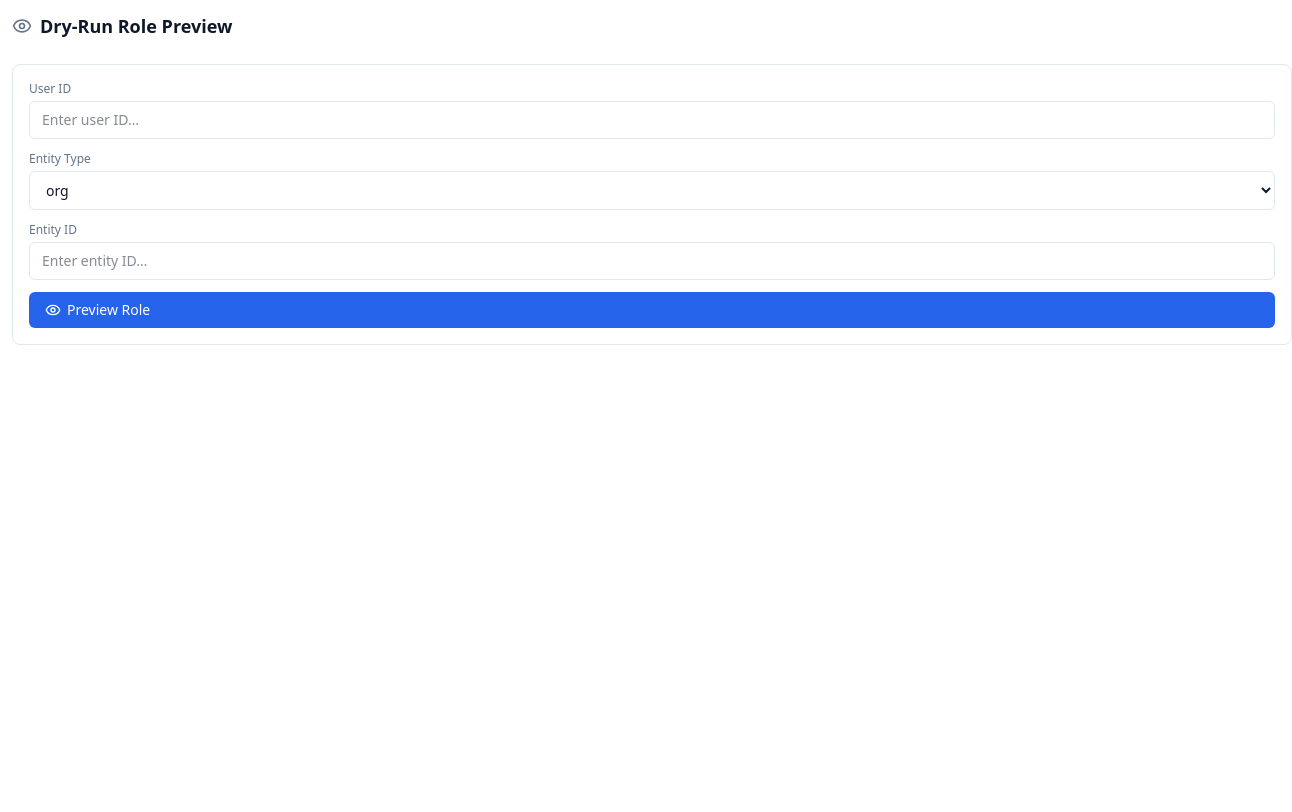
RBACPolicyPreview › displays resolved role after successful preview
Type "user-123" into the field with test id "preview-user-id" at (652, 120), box top-left (29, 101), bottom-right (1275, 139)
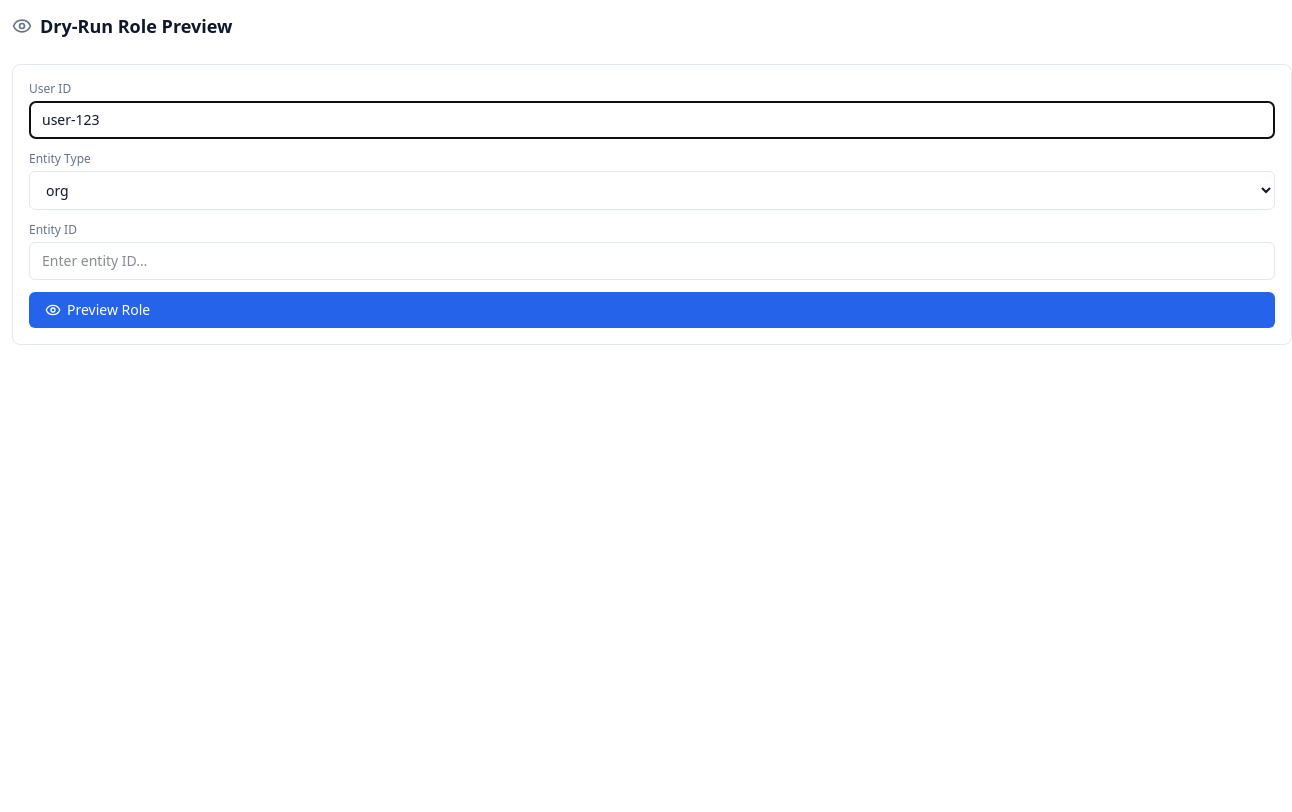
Type "org-456" into the field with test id "preview-entity-id" at (652, 261), box top-left (29, 242), bottom-right (1275, 280)
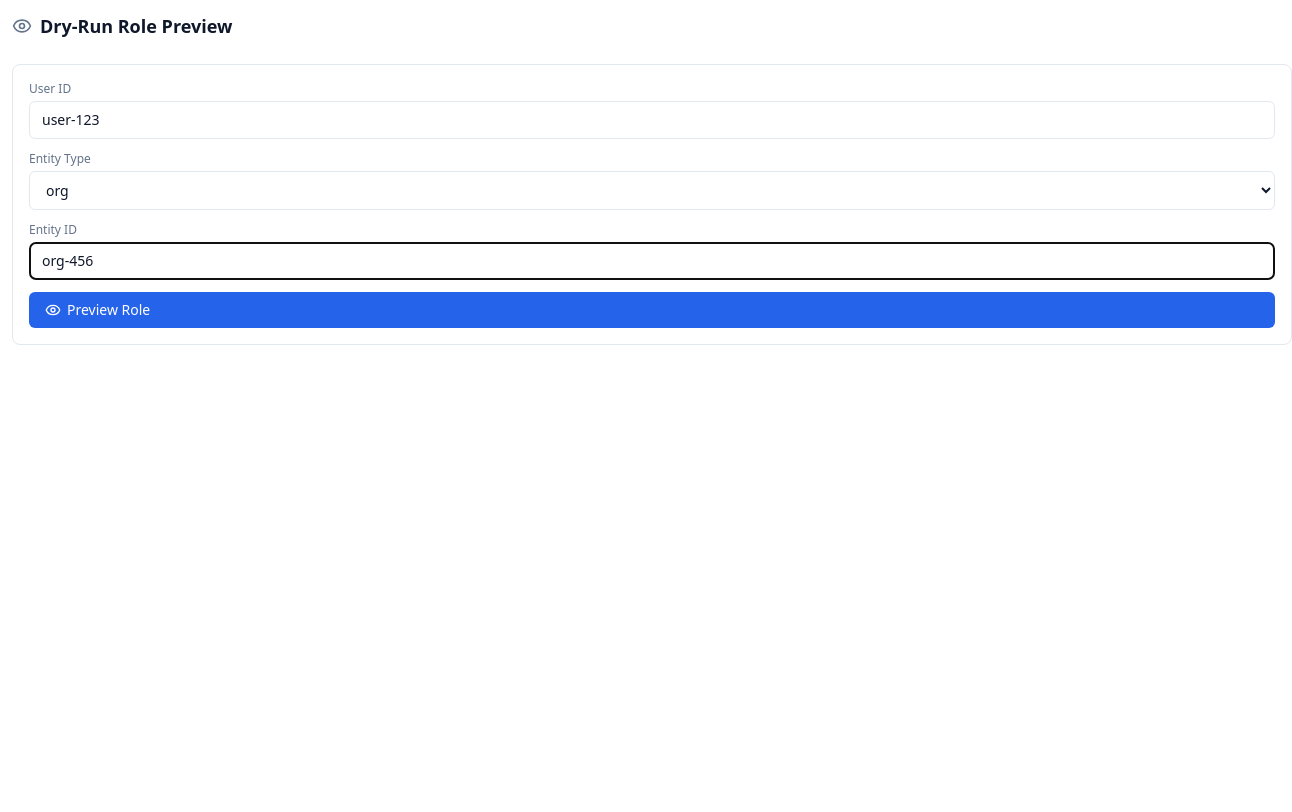
Click the button with test id "preview-submit-btn" at (109, 310), box top-left (29, 292), bottom-right (1275, 328)
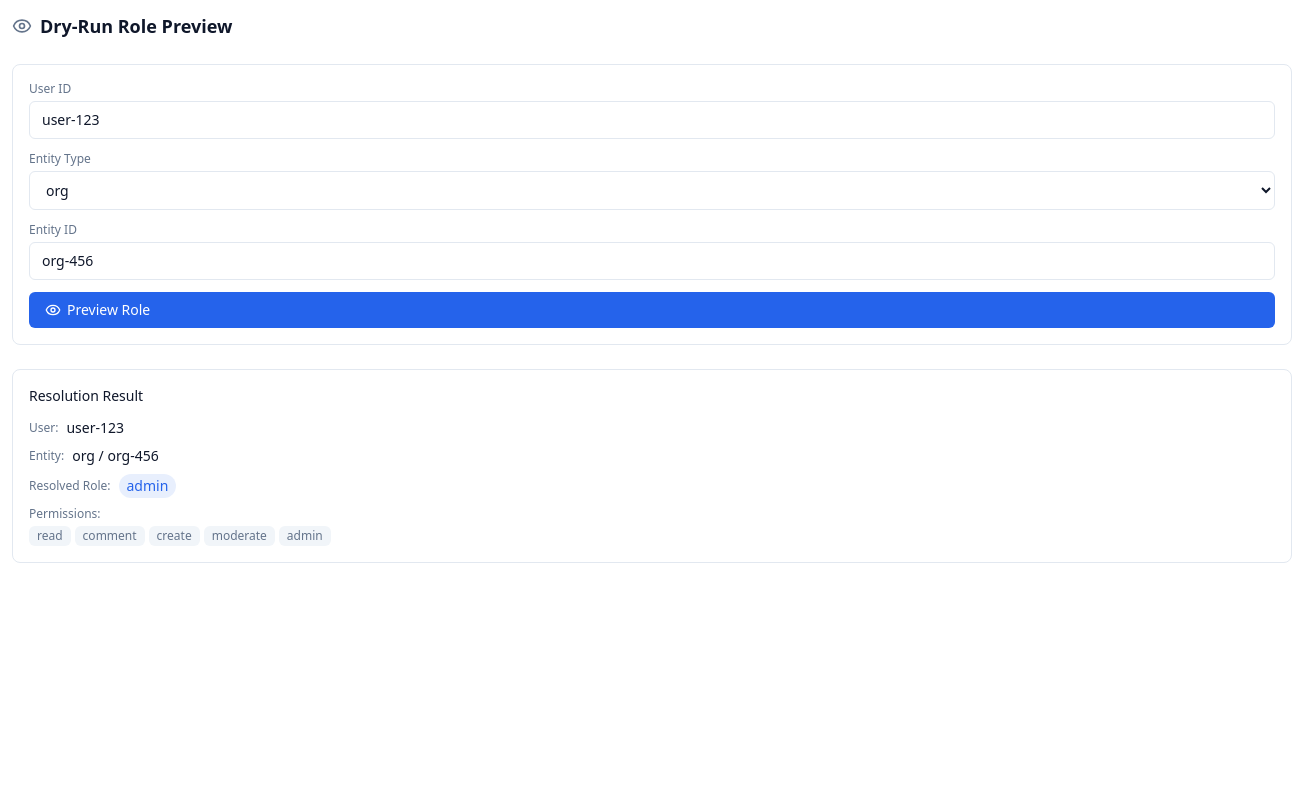
Expected: the element with test id "preview-result" is shown, top-left (12, 369), bottom-right (1291, 563)
Expected: the text with test id "preview-resolved-role" reads "admin", top-left (126, 476), bottom-right (168, 495)
